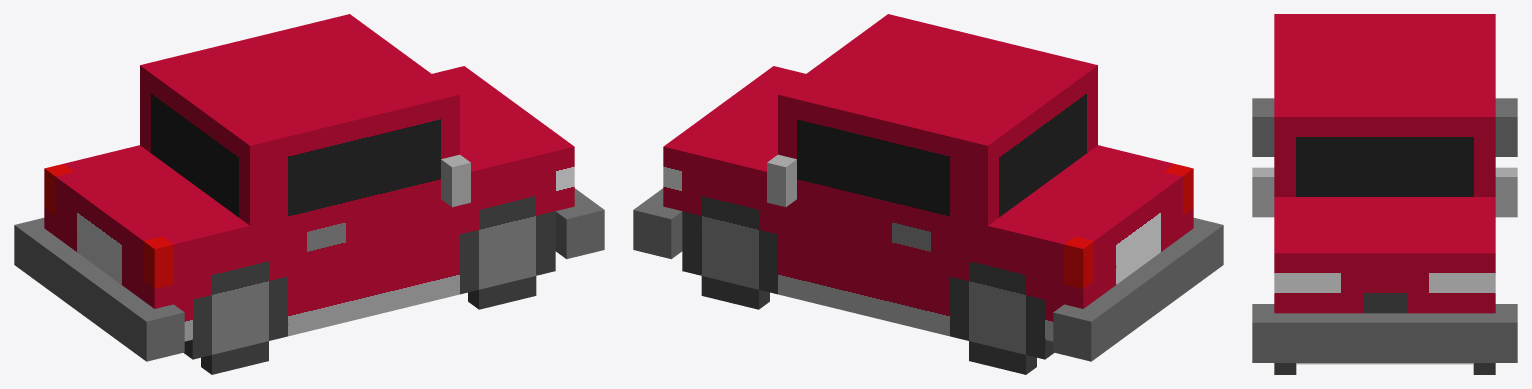
The model's file is veh_mini1.fbx.
3 renders of one model, left to right at view 1: azimuth 30°, elevation 25°; view 2: azimuth 150°, elevation 25°; view 3: azimuth 270°, elevation 25°, orthographic.
Parts seen in each view (by area): view 1: veh_mini1; view 2: veh_mini1; view 3: veh_mini1.
Part boxes in pixels (left/top/right/bottom): veh_mini1: left=14, top=14, right=604, bottom=374; veh_mini1: left=633, top=14, right=1223, bottom=374; veh_mini1: left=1252, top=14, right=1517, bottom=374.
Bounding box in the file's own units: 2.4 × 1.2 × 1.1.
1 material, 1 textured.
